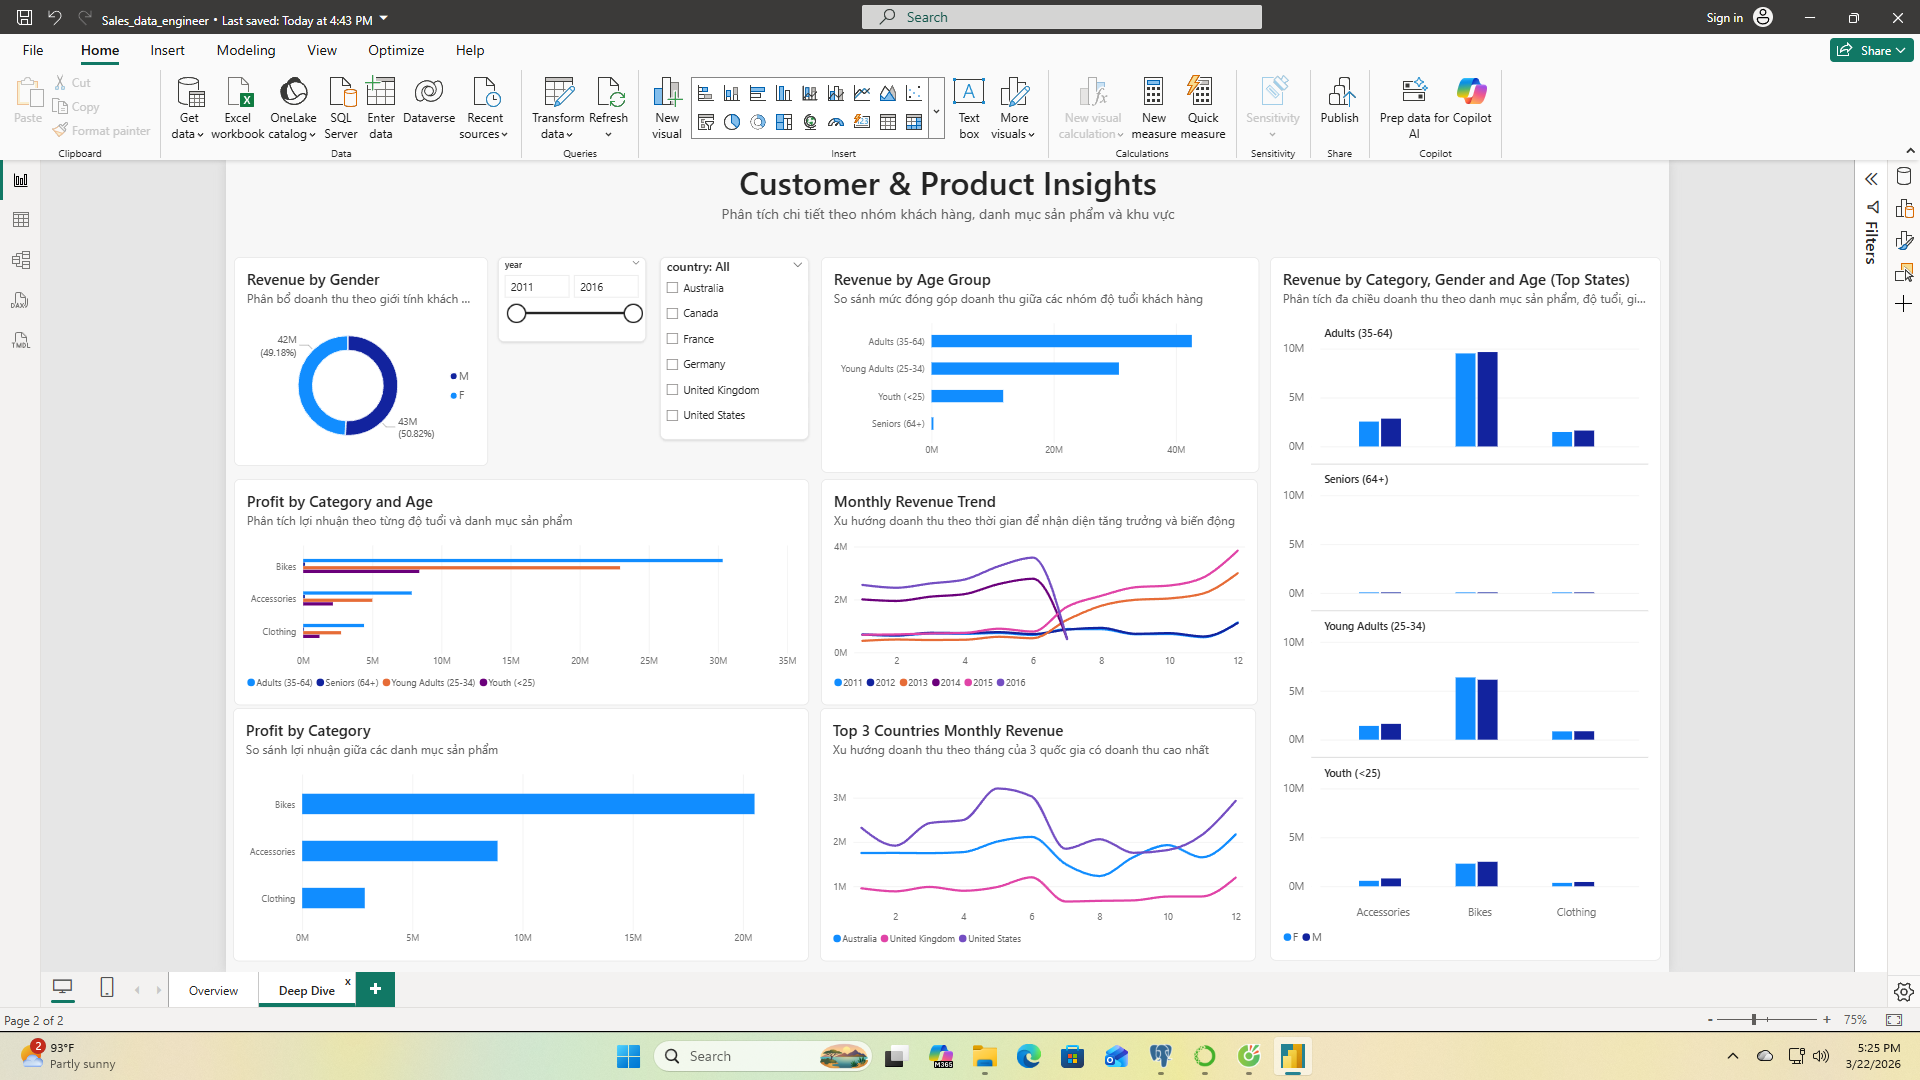

What the dashboard file says about the page in this screenshot:
{"tool":"powerbi","page":{"name":"Deep Dive","canvas":[1920,1080],"ordinal":1},"visuals":[{"type":"clusteredBarChart","title":"Revenue by Age Group","fields":{"Category":["public dim_customer.age_group"],"Y":["public fact_sales.Total Revenue"]},"box":[791.4,129,582.6,287.3],"z":0},{"type":"donutChart","title":"Revenue by Gender","fields":{"Category":["public dim_customer.customer_gender"],"Y":["public fact_sales.Total Revenue"]},"box":[10.6,129,337.8,278],"z":1000},{"type":"clusteredBarChart","title":"Profit by Category","fields":{"Category":["public dim_product.product_category"],"Y":["public fact_sales.Total Profit"]},"box":[9.3,728.9,766.1,336.5],"z":2000},{"type":"lineChart","title":"Monthly Revenue Trend","fields":{"Category":["public dim_date.month"],"Series":["public dim_date.year"],"Y":["public fact_sales.Total Revenue"]},"box":[791.4,424.3,581.2,300.6],"z":3000},{"type":"slicer","fields":{"Values":["public dim_date.year"]},"box":[361.8,129,196.8,113.1],"z":4000},{"type":"slicer","fields":{"Values":["public dim_location.country"]},"box":[577.2,129,198.2,243.4],"z":5000},{"type":"lineChart","title":"Top 3 Countries Monthly Revenue","fields":{"Category":["public dim_date.month"],"Series":["public dim_location.country"],"Y":["public fact_sales.Total Revenue"]},"box":[790,728.9,579.9,336.5],"z":6000},{"type":"clusteredBarChart","title":"Profit by Category and Age","fields":{"Category":["public dim_product.product_category"],"Series":["public dim_customer.age_group"],"Y":["public fact_sales.Total Revenue"]},"box":[10.6,424.3,764.8,300.6],"z":7000},{"type":"clusteredColumnChart","title":"Revenue by Category, Gender and Age (Top States)","fields":{"Category":["public dim_product.product_category"],"Rows":["public dim_customer.age_group"],"Series":["public dim_customer.customer_gender"],"Y":["public fact_sales.Total Revenue"]},"box":[1388.6,129,520,936.4],"z":8000},{"type":"textbox","title":"Customer & Product Insights","box":[646.4,0,627.8,164.9],"z":8001}]}

Visuals, with their boxes on the page's 1920x1080 design canvas (x1, y1, x2, y2). These are canvas units, not pixel positions in the 1920x1080 screenshot, which may show the page scaled, cropped or inside an application window:
"Revenue by Age Group" clusteredBarChart: box(791, 129, 1374, 416)
"Revenue by Gender" donutChart: box(11, 129, 348, 407)
"Profit by Category" clusteredBarChart: box(9, 729, 775, 1065)
"Monthly Revenue Trend" lineChart: box(791, 424, 1373, 725)
slicer - public dim_date.year: box(362, 129, 559, 242)
slicer - public dim_location.country: box(577, 129, 775, 372)
"Top 3 Countries Monthly Revenue" lineChart: box(790, 729, 1370, 1065)
"Profit by Category and Age" clusteredBarChart: box(11, 424, 775, 725)
"Revenue by Category, Gender and Age (Top States)" clusteredColumnChart: box(1389, 129, 1909, 1065)
"Customer & Product Insights" textbox: box(646, 0, 1274, 165)
